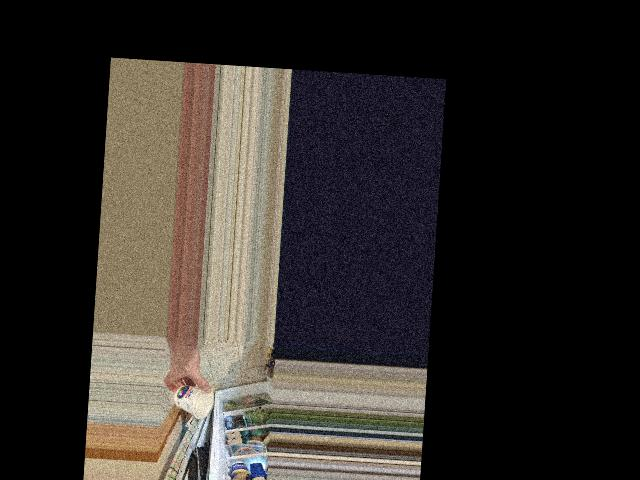cotage: (172, 380, 207, 421)
